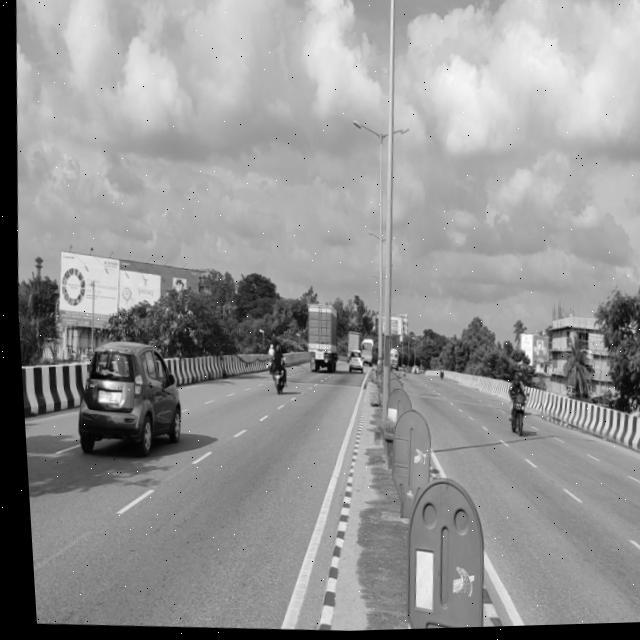car: (63, 340, 187, 475)
